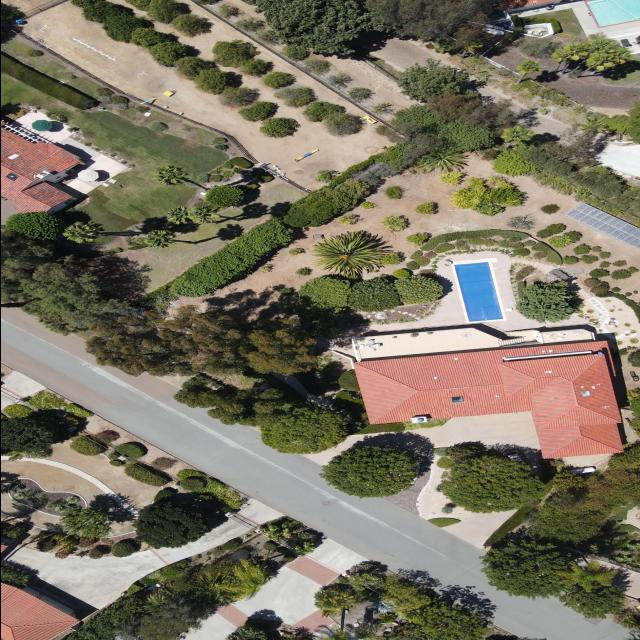solar-panels: (564, 197, 640, 250)
